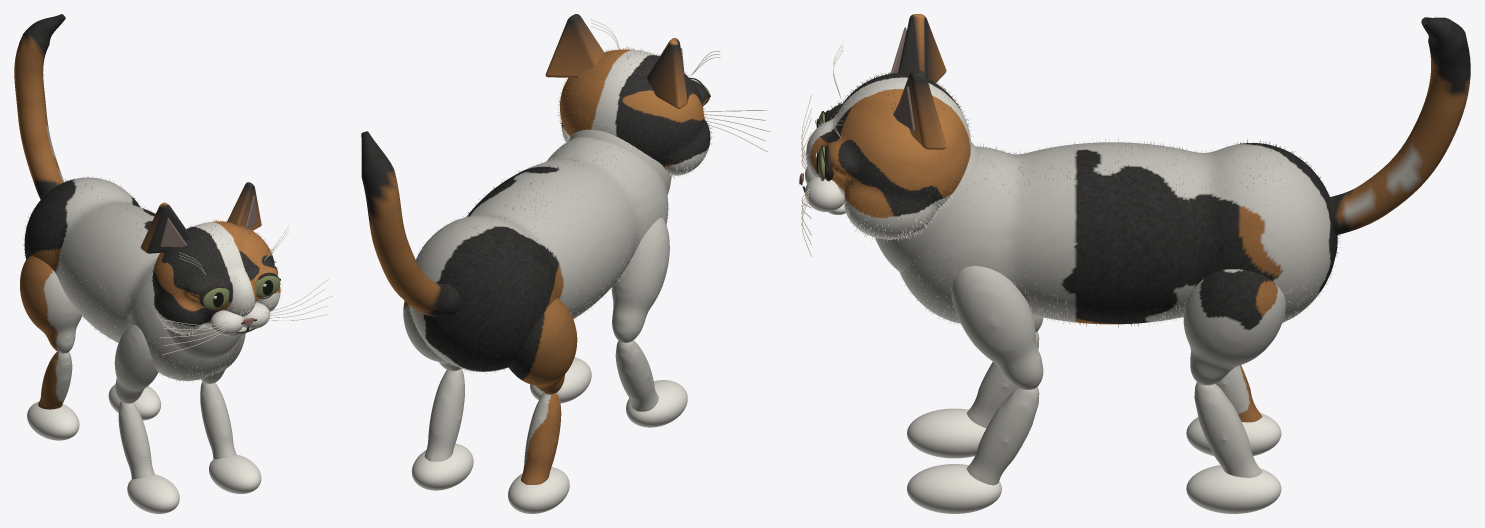
File: mugi-walking-v4.glb
3 views of the same model, side by side, from view 1: azimuth 30°, elevation 25°; view 2: azimuth 150°, elevation 25°; view 3: azimuth 270°, elevation 25° (orthographic). The views are drawn at different scales.
Visible parts, largest first — view 1: Walking_Torso, Head_Sculpt, Walking tail, Hindleg_HL, Foreleg_FL, Foreleg_lower_FL, Foreleg_lower_FR, Paw_FL, Paw_FR, Paw_HL, Neck, Hindleg_lower_HL (+8 smaller); view 2: Walking_Torso, Head_Sculpt, Walking tail, Foreleg_FL, Hindleg_HL, Hindleg_lower_HL, Hindleg_lower_HR, Ear_R, Foreleg_lower_FL, Paw_HR, Paw_HL, Ear_L (+6 smaller); view 3: Walking_Torso, Head_Sculpt, Walking tail, Hindleg_HR, Foreleg_FR, Foreleg_lower_FR, Hindleg_lower_HR, Paw_FR, Paw_HR, Paw_FL, Neck, Ear_L (+7 smaller).
Part boxes in pixels (x1=…): Walking_Torso: x1=24, y1=177, x2=242, y2=380; Head_Sculpt: x1=152, y1=221, x2=280, y2=333; Walking tail: x1=14, y1=14, x2=65, y2=199; Hindleg_HL: x1=20, y1=256, x2=81, y2=353; Foreleg_FL: x1=114, y1=324, x2=158, y2=403; Foreleg_lower_FL: x1=118, y1=401, x2=154, y2=479; Foreleg_lower_FR: x1=200, y1=381, x2=236, y2=459; Paw_FL: x1=127, y1=474, x2=179, y2=513; Paw_FR: x1=209, y1=454, x2=261, y2=493; Paw_HL: x1=27, y1=401, x2=79, y2=440; Neck: x1=165, y1=326, x2=240, y2=359; Hindleg_lower_HL: x1=38, y1=351, x2=72, y2=409; Walking_Torso: x1=410, y1=137, x2=668, y2=371; Head_Sculpt: x1=560, y1=49, x2=710, y2=175; Walking tail: x1=361, y1=131, x2=460, y2=316; Foreleg_FL: x1=611, y1=218, x2=669, y2=342; Hindleg_HL: x1=509, y1=298, x2=577, y2=394; Hindleg_lower_HL: x1=521, y1=392, x2=561, y2=484; Hindleg_lower_HR: x1=424, y1=368, x2=464, y2=461; Ear_R: x1=545, y1=14, x2=604, y2=77; Foreleg_lower_FL: x1=615, y1=340, x2=658, y2=411; Paw_HR: x1=411, y1=443, x2=473, y2=490; Paw_HL: x1=508, y1=467, x2=569, y2=513; Ear_L: x1=647, y1=38, x2=687, y2=109; Walking_Torso: x1=899, y1=142, x2=1337, y2=324; Head_Sculpt: x1=806, y1=73, x2=971, y2=239; Walking tail: x1=1328, y1=17, x2=1470, y2=235; Hindleg_HR: x1=1183, y1=269, x2=1285, y2=385; Foreleg_FR: x1=951, y1=266, x2=1043, y2=389; Foreleg_lower_FR: x1=966, y1=387, x2=1039, y2=485; Hindleg_lower_HR: x1=1194, y1=382, x2=1262, y2=477; Paw_FR: x1=907, y1=464, x2=1001, y2=513; Paw_HR: x1=1186, y1=465, x2=1281, y2=513; Paw_FL: x1=907, y1=408, x2=986, y2=458; Neck: x1=875, y1=142, x2=978, y2=272; Ear_L: x1=898, y1=14, x2=946, y2=83.
Size of the model in its own units: 0.9956 by 1.93 by 2.4.
